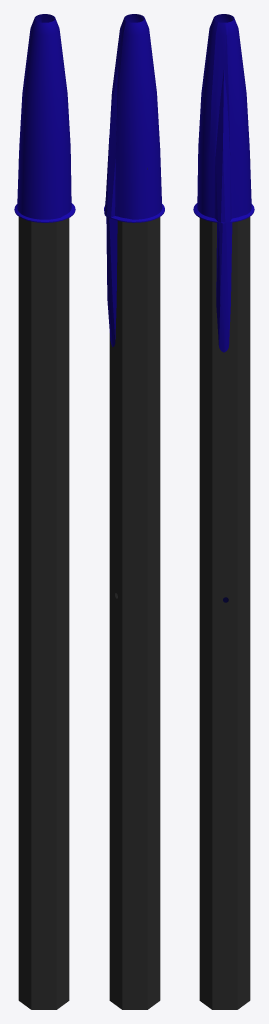
Rendered from Ballpen.fbx.
The picture shows the model from 3 angles, left to right: view 1: azimuth 90°, elevation 25°; view 2: azimuth 210°, elevation 25°; view 3: azimuth 270°, elevation 25°; orthographic projection.
Parts seen in each view (by area): view 1: polySurface37, polySurface28; view 2: polySurface37, polySurface28; view 3: polySurface37, polySurface28.
Part boxes in pixels (<box>): polySurface37: <box>18,159,69,1009</box>; polySurface28: <box>14,14,75,222</box>; polySurface37: <box>109,168,160,1009</box>; polySurface28: <box>104,14,164,346</box>; polySurface37: <box>199,159,250,1009</box>; polySurface28: <box>193,14,254,352</box>.
Size of the model in its own units: 2.5 by 42.96 by 2.42.
